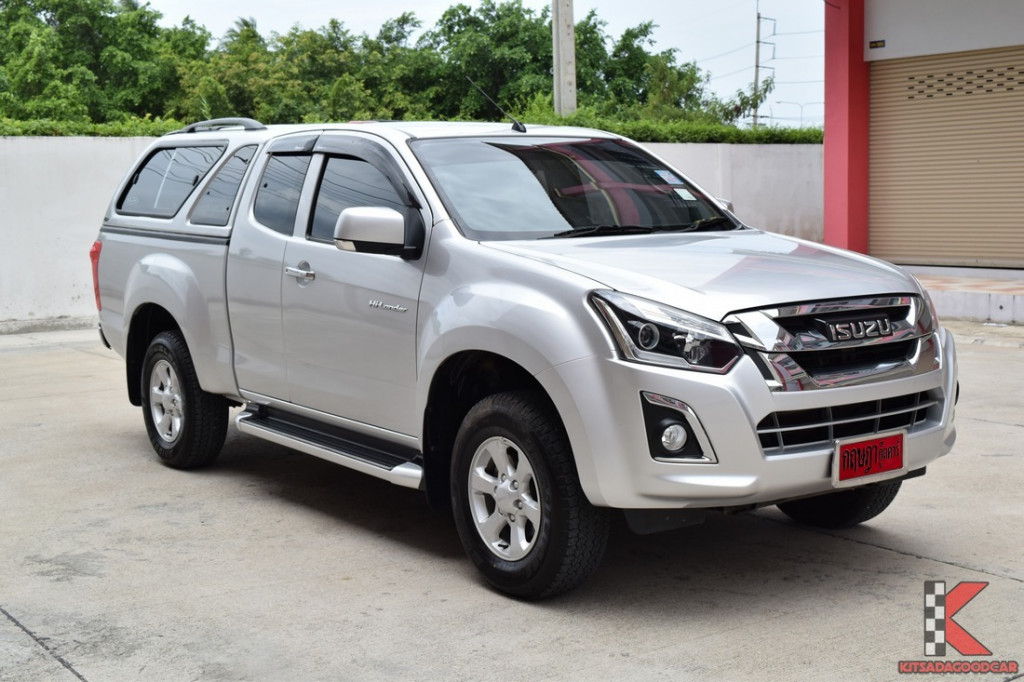pickup: (88, 114, 962, 586)
